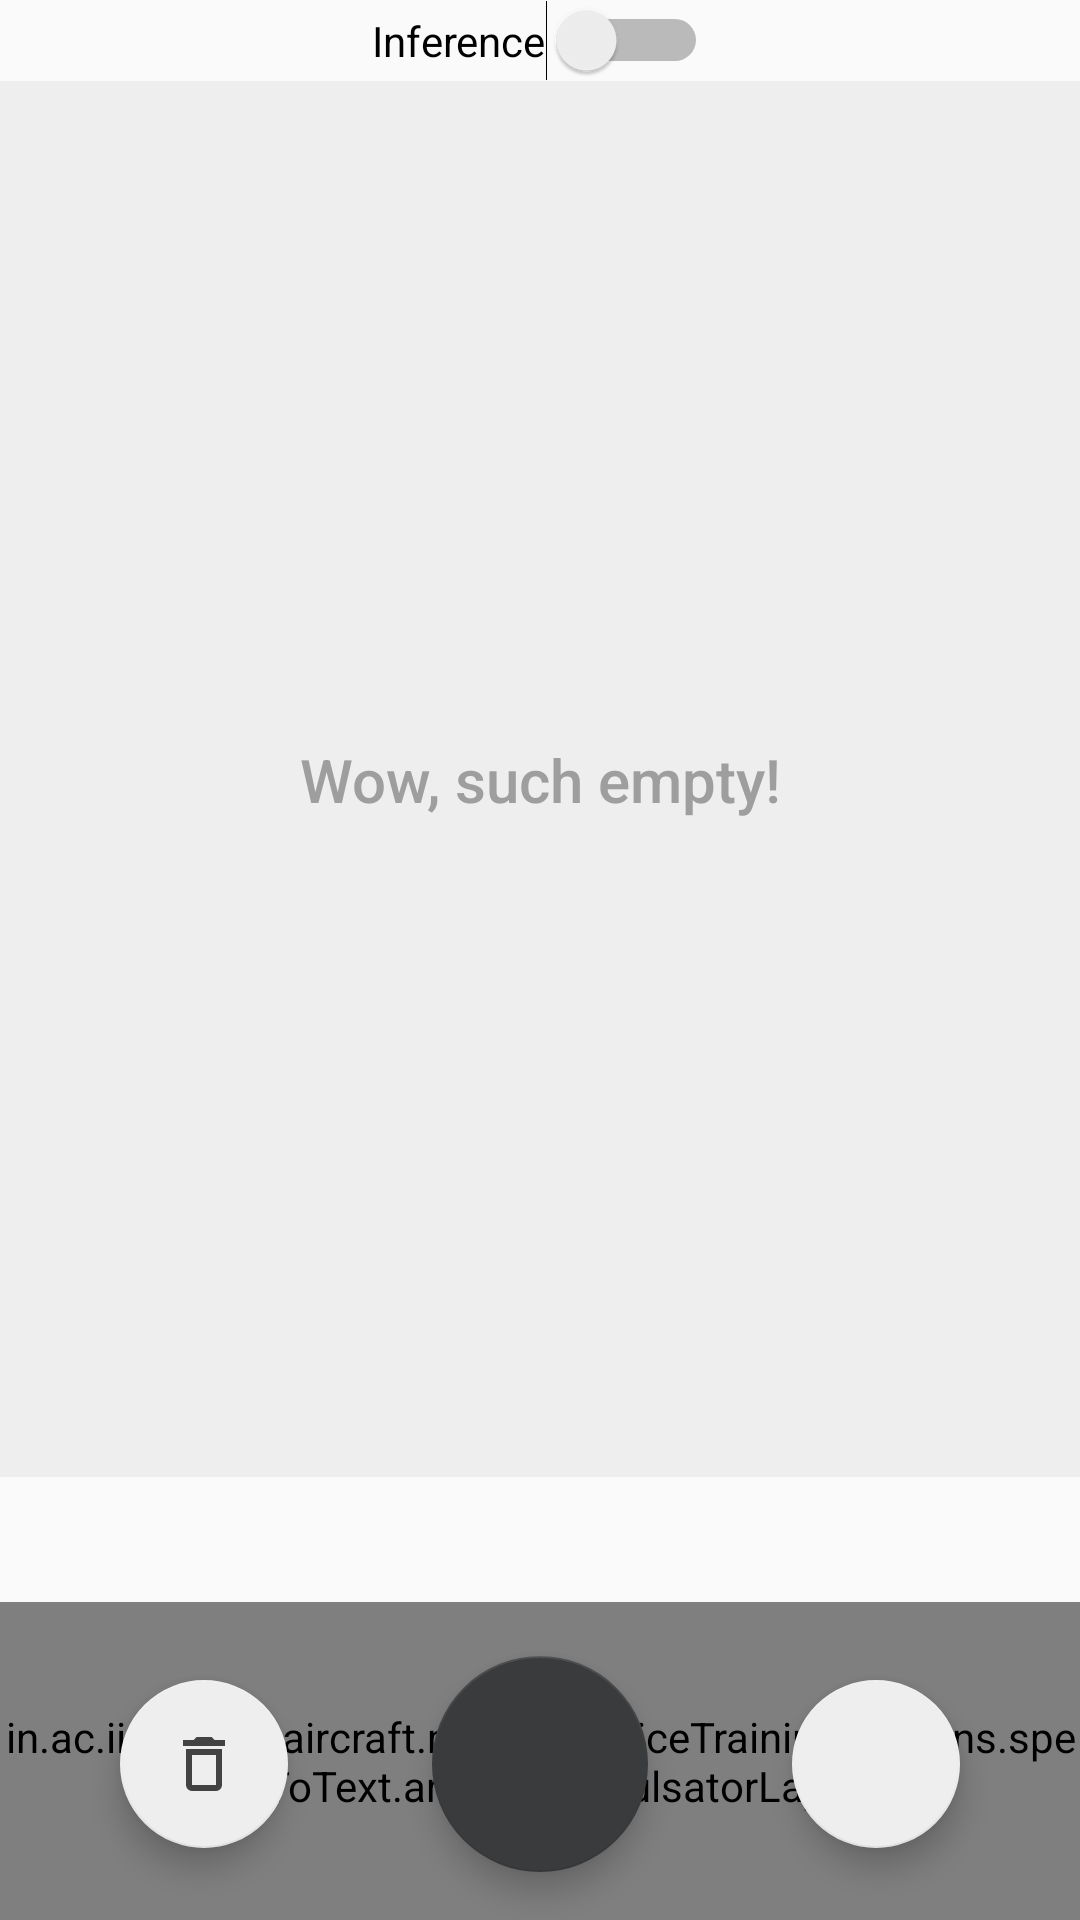

Point at icon controls on the screen. Image size 1080 × 1920, points as (x,y).
delete: (204,1764)
